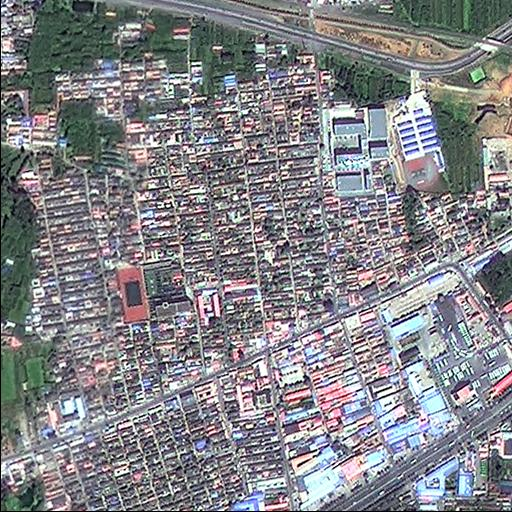school: (323, 94, 455, 202), (114, 259, 190, 324)
